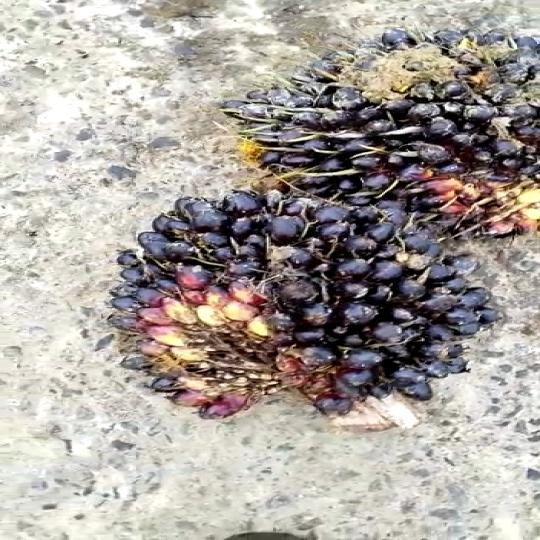mentah: (120, 190, 490, 437), (173, 33, 540, 219)
